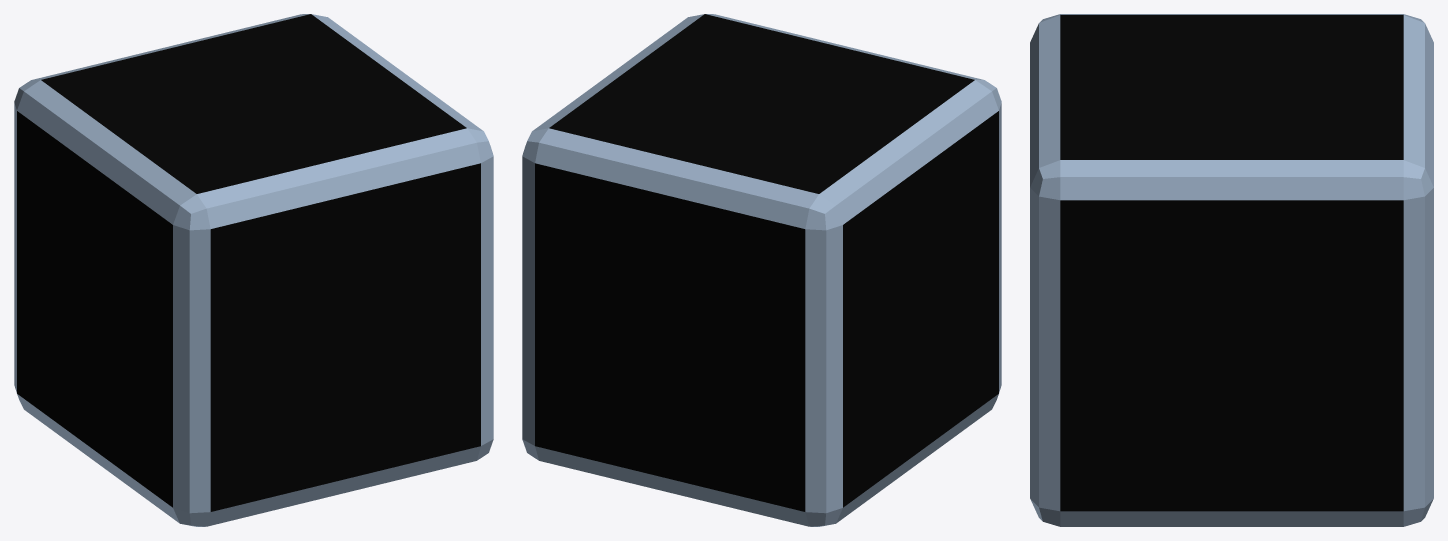
File: block_shell.glb
3 renders of one model, left to right at view 1: azimuth 30°, elevation 25°; view 2: azimuth 150°, elevation 25°; view 3: azimuth 270°, elevation 25°, orthographic. The views are drawn at different scales.
Visible parts, largest first — view 1: block_shell; view 2: block_shell; view 3: block_shell.
Part boxes in pixels (bbox=[...]): block_shell: bbox=[14, 14, 493, 526]; block_shell: bbox=[522, 14, 1001, 526]; block_shell: bbox=[1030, 14, 1433, 526].
Size of the model in its own units: 1 by 1 by 1.
